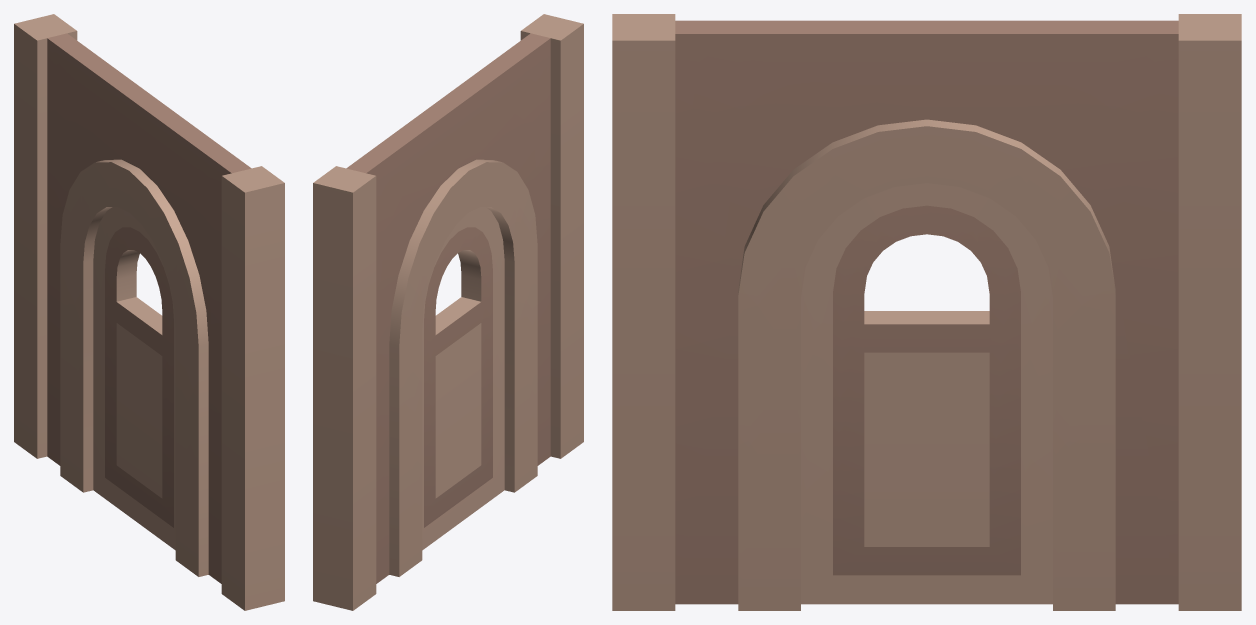
Rendered from wall-wood-door.glb.
3 renders of one model, left to right at view 1: azimuth 30°, elevation 25°; view 2: azimuth 150°, elevation 25°; view 3: azimuth 270°, elevation 25°, orthographic. The views are drawn at different scales.
Visible parts, largest first — view 1: wall-wood-door; view 2: wall-wood-door; view 3: wall-wood-door.
Part boxes in pixels (x1=…): wall-wood-door: x1=14, y1=14, x2=284, y2=610; wall-wood-door: x1=313, y1=14, x2=583, y2=610; wall-wood-door: x1=612, y1=14, x2=1241, y2=610.
Size of the model in its own units: 0.1 by 1 by 1.
